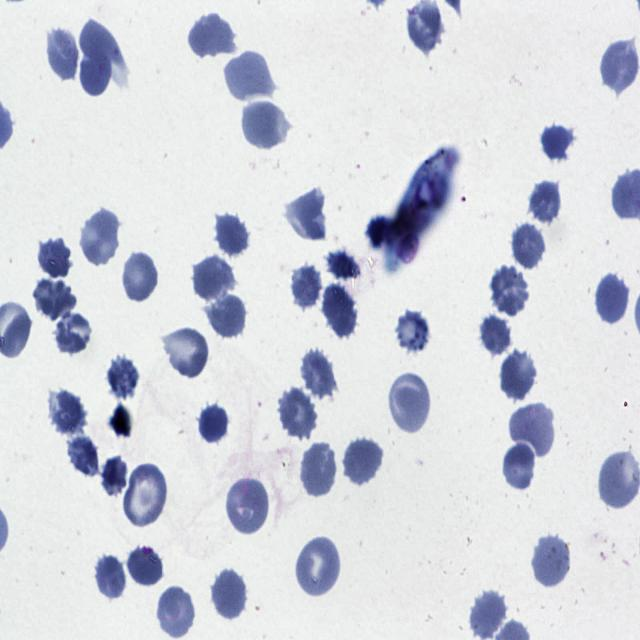red blood cell: (123, 460, 169, 530), (294, 533, 342, 600), (224, 473, 272, 537), (508, 402, 558, 460), (238, 96, 291, 150), (388, 369, 432, 434), (160, 324, 210, 380), (223, 50, 274, 103), (78, 207, 122, 268), (282, 186, 329, 242), (187, 10, 236, 62), (531, 533, 573, 590), (158, 582, 200, 638), (190, 253, 236, 304), (276, 387, 319, 441), (296, 347, 338, 402), (300, 440, 338, 500), (600, 37, 640, 94), (489, 265, 532, 317), (342, 435, 384, 488), (499, 347, 538, 403), (321, 281, 358, 339), (44, 25, 81, 83), (206, 289, 248, 340), (211, 566, 249, 622), (468, 589, 509, 640), (32, 275, 78, 320), (122, 250, 160, 304), (596, 270, 631, 328), (46, 388, 86, 438), (502, 440, 539, 494), (79, 17, 123, 61), (528, 177, 565, 227), (49, 313, 93, 355), (509, 222, 547, 270), (126, 541, 164, 589), (106, 352, 142, 402), (94, 551, 129, 602), (195, 400, 233, 445), (396, 307, 431, 353), (81, 50, 113, 100), (215, 211, 249, 257), (37, 234, 71, 280), (66, 432, 100, 477), (538, 124, 576, 164), (480, 311, 512, 356), (289, 262, 320, 308), (101, 454, 128, 498)
